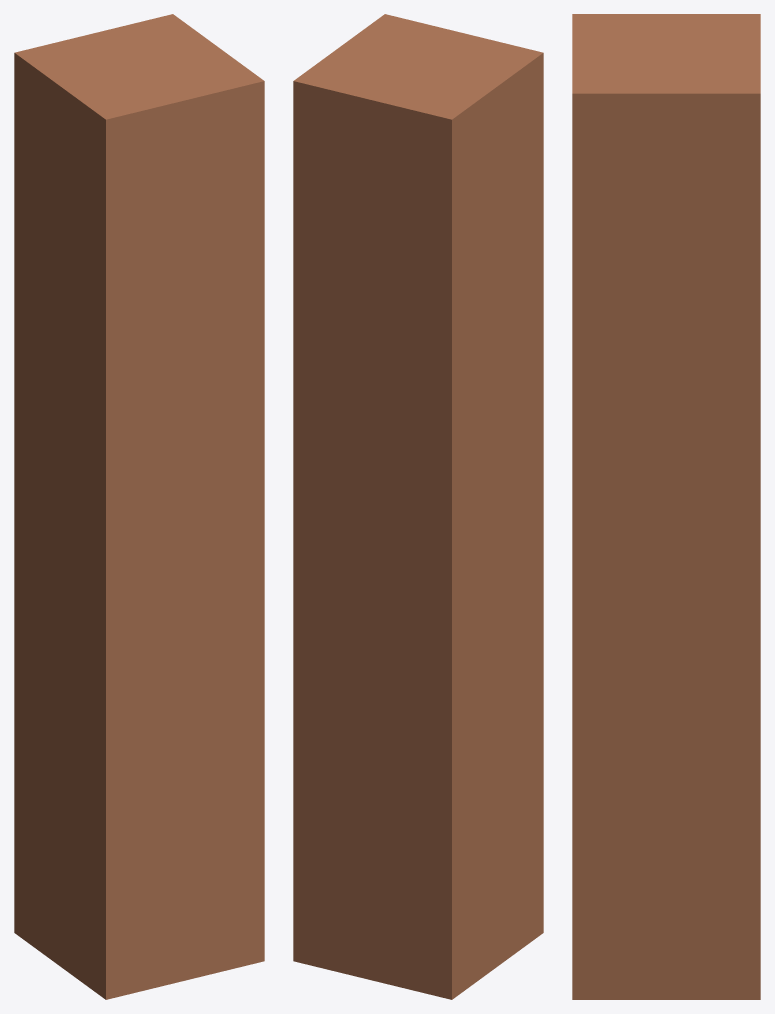
The model's file is ZaborStorona Pen.fbx.
The picture shows the model from 3 angles, left to right: view 1: azimuth 30°, elevation 25°; view 2: azimuth 150°, elevation 25°; view 3: azimuth 270°, elevation 25°; orthographic projection. The views are drawn at different scales.
Visible parts, largest first — view 1: ZaborStorona pen kusok, ZaborStorona pen, ZaborStorona pen root; view 2: ZaborStorona pen, ZaborStorona pen kusok, ZaborStorona pen root; view 3: ZaborStorona pen, ZaborStorona pen kusok, ZaborStorona pen root.
Part boxes in pixels (bbox=[...]): ZaborStorona pen kusok: bbox=[14, 57, 264, 836]; ZaborStorona pen: bbox=[14, 14, 264, 999]; ZaborStorona pen root: bbox=[14, 781, 264, 997]; ZaborStorona pen: bbox=[293, 14, 543, 999]; ZaborStorona pen kusok: bbox=[293, 54, 543, 836]; ZaborStorona pen root: bbox=[293, 781, 543, 996]; ZaborStorona pen: bbox=[572, 14, 760, 999]; ZaborStorona pen kusok: bbox=[572, 94, 760, 831]; ZaborStorona pen root: bbox=[572, 844, 760, 997].
Size of the model in its own units: 0.1689 by 0.8957 by 0.1689.
